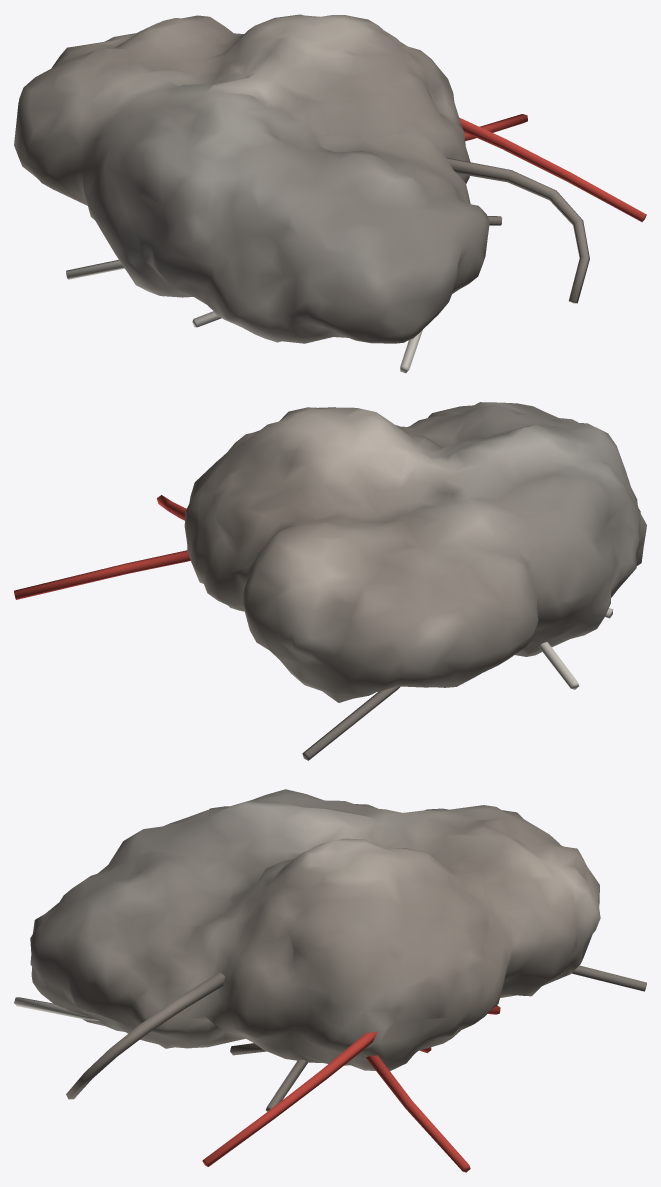
File: den_dust_clump_b.glb
The picture shows the model from 3 angles, top to bottom: view 1: azimuth 30°, elevation 25°; view 2: azimuth 150°, elevation 25°; view 3: azimuth 270°, elevation 25°; orthographic projection. The views are drawn at different scales.
Visible parts, largest first — view 1: den_dust_clump_b; view 2: den_dust_clump_b; view 3: den_dust_clump_b.
Boxes of the visible parts, x1,y1,x2,y2 form: den_dust_clump_b: [14, 14, 646, 373]; den_dust_clump_b: [14, 402, 646, 760]; den_dust_clump_b: [14, 789, 646, 1172].
Size of the model in its own units: 10.58 by 3.94 by 11.54.
